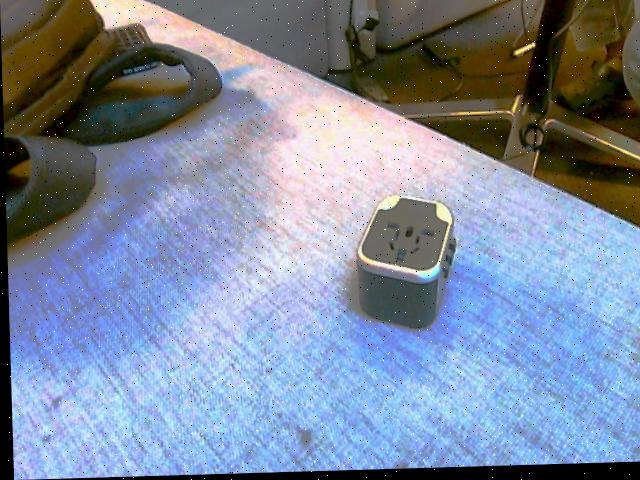adapter: (352, 194, 457, 331)
